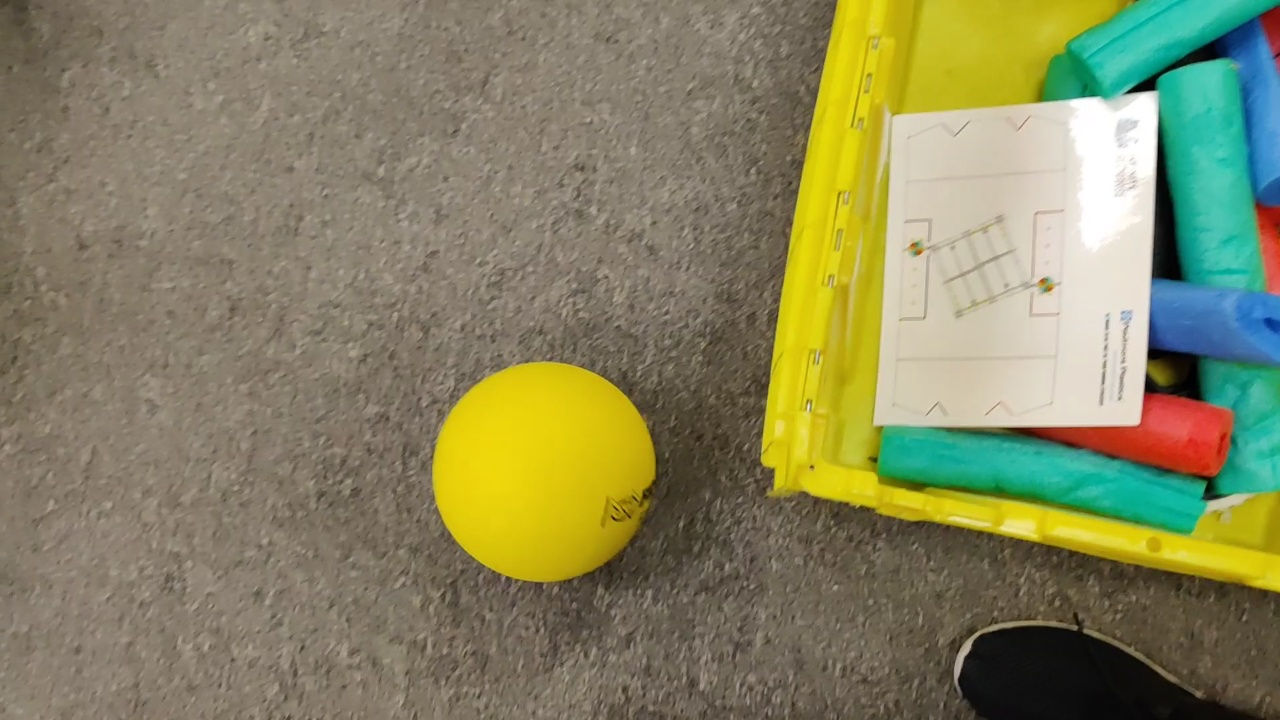Ball: (430, 360, 655, 578)
